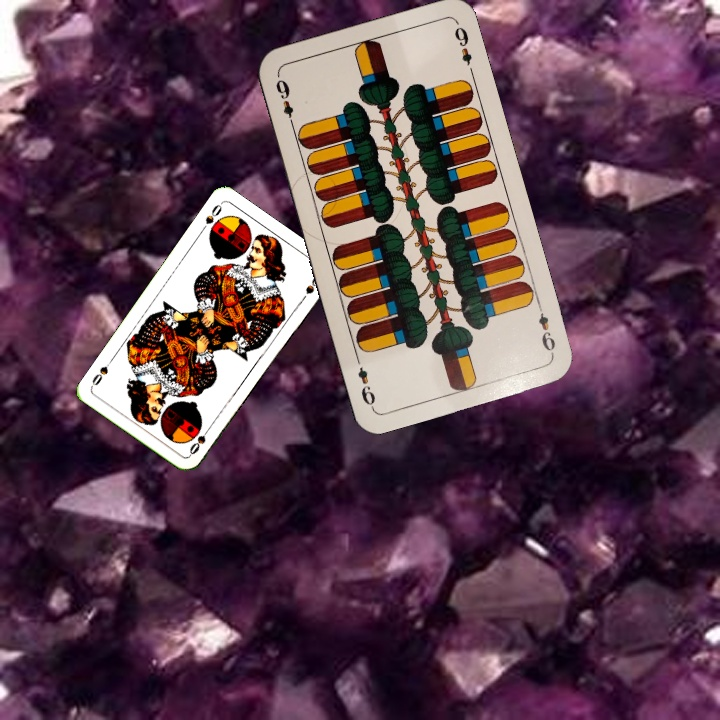E9: (271, 72, 297, 130), (533, 299, 558, 358)
SO: (185, 422, 214, 458), (196, 199, 224, 235)
